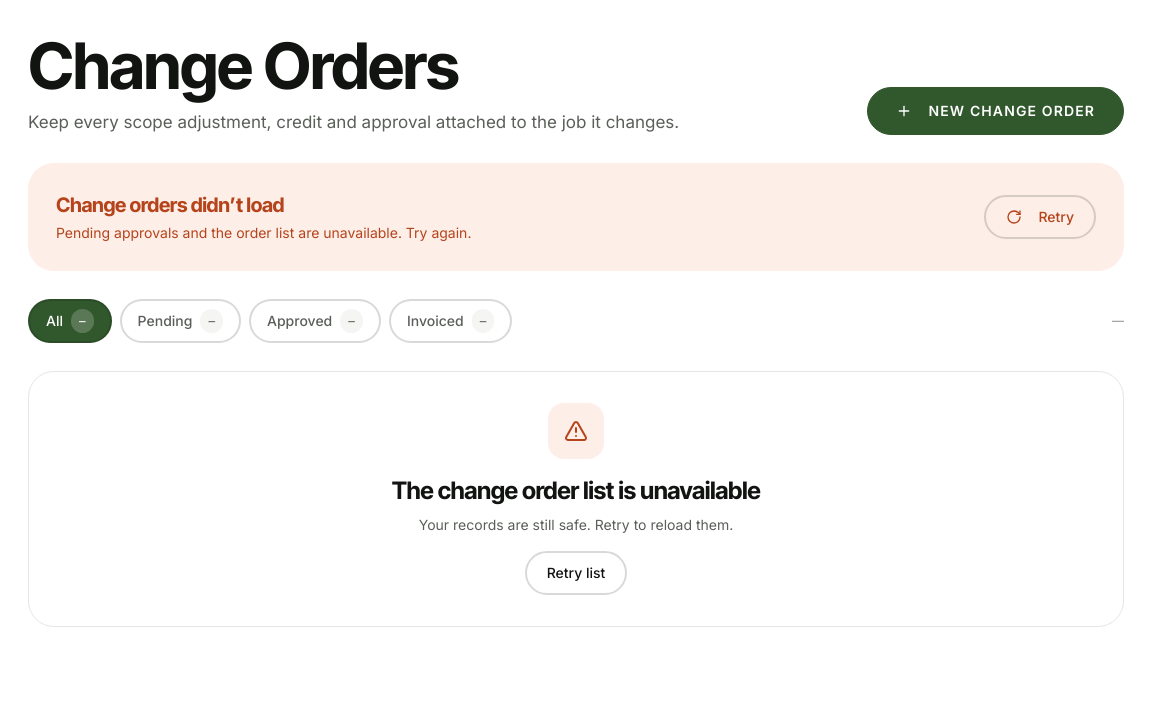
it: Change Orders redesign › shows a recoverable list error rather than a false empty state
Expected: the message is shown, [28, 163, 1124, 271]
Click the button with test id "button-retry-change-orders" at (1040, 217), box [984, 195, 1096, 239]
(page scrolled)
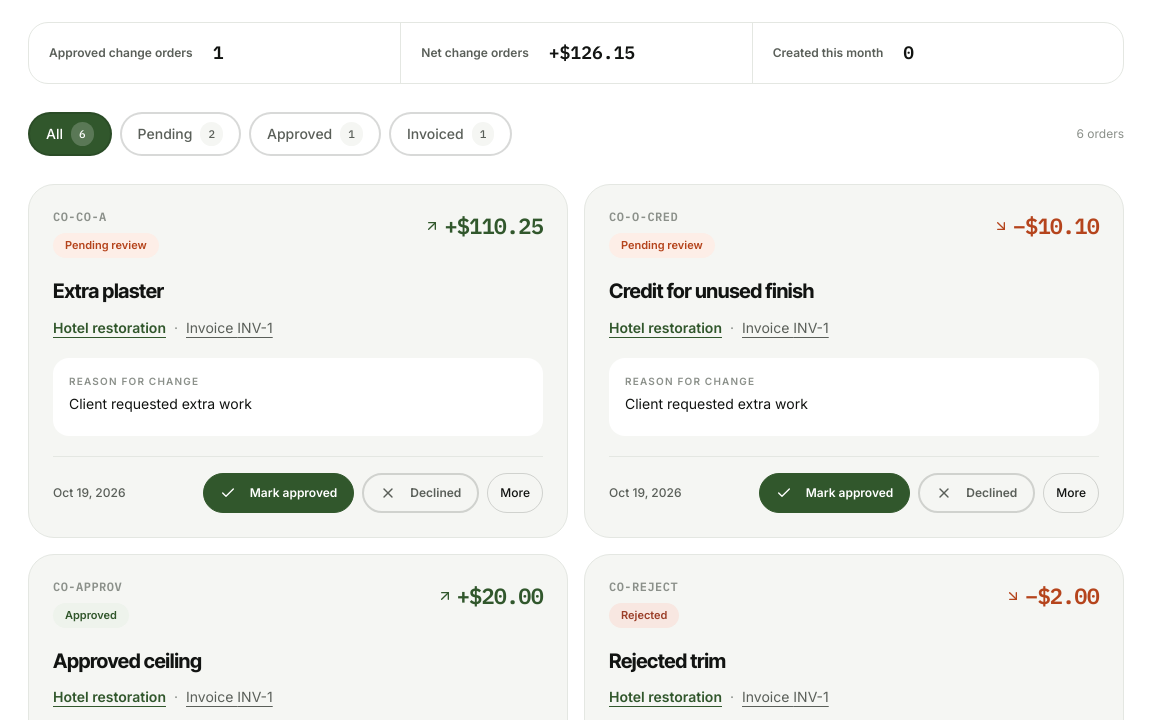
Result: the element with test id "row-co-co-add" is shown at [28, 184, 568, 538]
